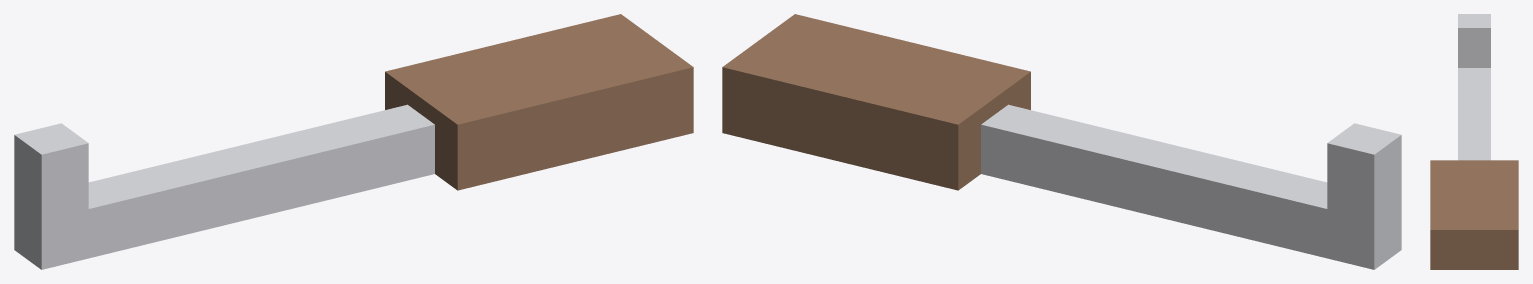
The model's file is Lockpick.glb.
3 renders of one model, left to right at view 1: azimuth 30°, elevation 25°; view 2: azimuth 150°, elevation 25°; view 3: azimuth 270°, elevation 25°, orthographic. The views are drawn at different scales.
Parts seen in each view (by area): view 1: Lockpick; view 2: Lockpick; view 3: Lockpick.
Boxes of the visible parts, bbox=[...] form: Lockpick: bbox=[14, 14, 693, 269]; Lockpick: bbox=[722, 14, 1401, 269]; Lockpick: bbox=[1430, 14, 1518, 269].
Bounding box in the file's own units: 0.4 × 0.07 × 0.08.
